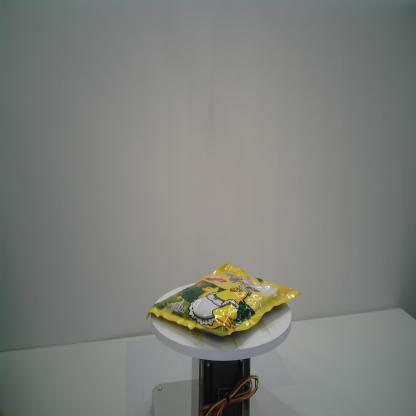Seasoner: (146, 261, 302, 342)
